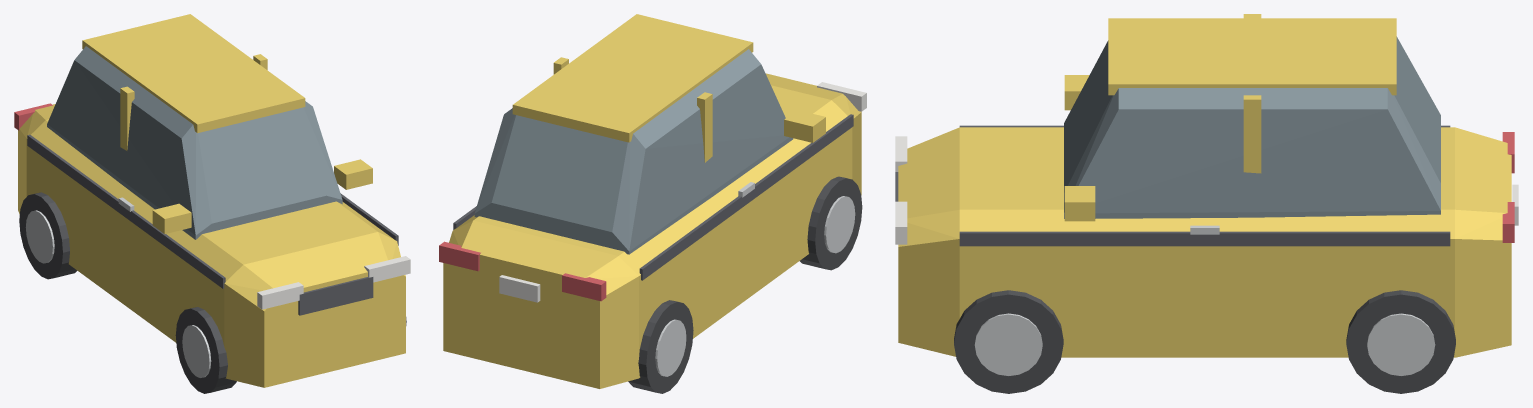
The model's file is commercial-minibus.glb.
The picture shows the model from 3 angles, left to right: view 1: azimuth 30°, elevation 25°; view 2: azimuth 150°, elevation 25°; view 3: azimuth 270°, elevation 25°; orthographic projection. The views are drawn at different scales.
Parts seen in each view (by area): view 1: body, cabin_glass, roof, taxi_stripe_-1, wheel_-1_1_tire, wheel_-1_-1_tire, grille, wheel_-1_-1_rim, wheel_-1_1_rim, mirror_-1, mirror_1, headlight_-1 (+4 smaller); view 2: body, cabin_glass, roof, taxi_stripe_-1, wheel_-1_-1_tire, wheel_-1_1_tire, wheel_-1_1_rim, wheel_-1_-1_rim, mirror_-1, taillight_-1, taillight_1, rear_plate (+2 smaller); view 3: body, cabin_glass, roof, taxi_stripe_1, wheel_1_-1_tire, wheel_1_1_tire, wheel_1_-1_rim, wheel_1_1_rim, pillar_1, mirror_1, mirror_-1, headlight_1.
Part boxes in pixels (<box>): body: <box>18,104,405,387</box>; cabin_glass: <box>47,46,342,239</box>; roof: <box>82,14,305,133</box>; taxi_stripe_-1: <box>27,134,225,288</box>; wheel_-1_1_tire: <box>175,307,236,393</box>; wheel_-1_-1_tire: <box>19,192,77,279</box>; grille: <box>298,277,373,315</box>; wheel_-1_-1_rim: <box>25,210,54,263</box>; wheel_-1_1_rim: <box>182,325,211,377</box>; mirror_-1: <box>152,203,191,233</box>; mirror_1: <box>334,159,372,189</box>; headlight_-1: <box>257,282,303,309</box>; body: <box>443,73,861,388</box>; cabin_glass: <box>474,49,793,254</box>; roof: <box>512,14,753,142</box>; taxi_stripe_-1: <box>639,114,853,280</box>; wheel_-1_-1_tire: <box>628,300,693,393</box>; wheel_-1_1_tire: <box>800,176,862,270</box>; wheel_-1_1_rim: <box>824,196,855,253</box>; wheel_-1_-1_rim: <box>655,319,686,376</box>; mirror_-1: <box>784,110,825,142</box>; taillight_-1: <box>562,273,606,301</box>; taillight_1: <box>439,241,480,271</box>; rear_plate: <box>499,275,540,302</box>; body: <box>898,127,1511,357</box>; cabin_glass: <box>1064,36,1440,218</box>; roof: <box>1108,18,1396,95</box>; taxi_stripe_1: <box>959,231,1450,246</box>; wheel_1_-1_tire: <box>1346,290,1455,393</box>; wheel_1_1_tire: <box>954,290,1063,393</box>; wheel_1_-1_rim: <box>1367,313,1435,375</box>; wheel_1_1_rim: <box>974,313,1042,375</box>; pillar_1: <box>1243,95,1261,173</box>; mirror_1: <box>1064,186,1095,221</box>; mirror_-1: <box>1064,75,1089,110</box>; headlight_1: <box>895,201,907,244</box>.
Bounding box in the file's own units: 1.87 × 1.95 × 3.87.
